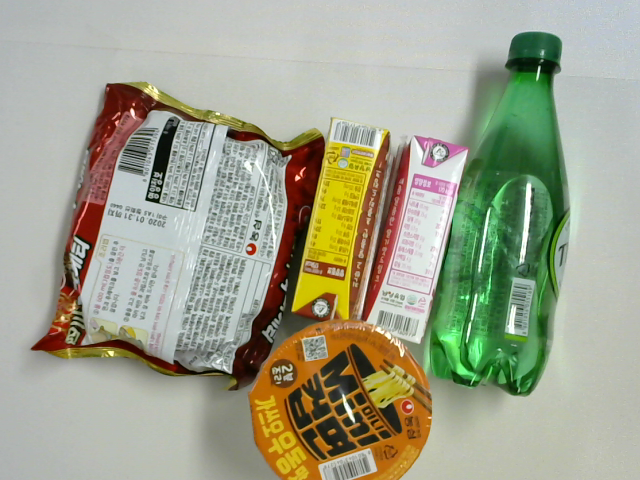Choco_E_Mong: (280, 123, 382, 308)
Sichuan_Chapaghetti: (52, 96, 301, 346)
Strawberry_E_Mong: (374, 135, 467, 330)
Treviraim_500ml: (443, 15, 584, 387)
Udongmini: (247, 316, 432, 480)
